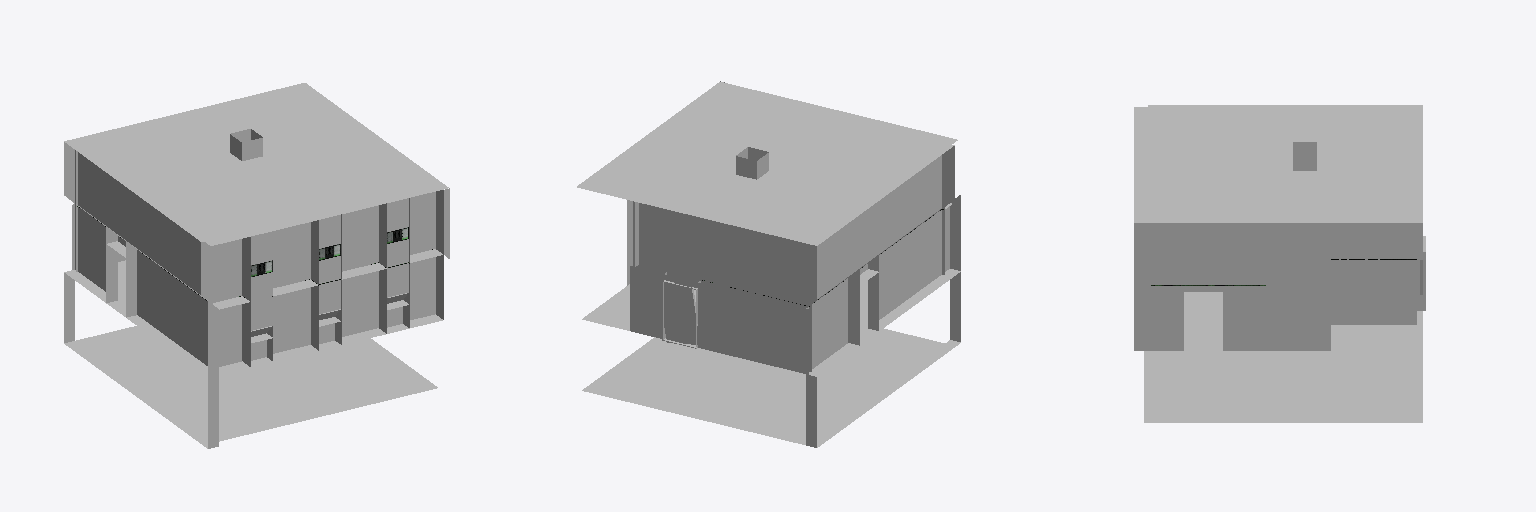
3 renders of one model, left to right at view 1: azimuth 30°, elevation 25°; view 2: azimuth 150°, elevation 25°; view 3: azimuth 270°, elevation 25°, orthographic.
Size of the model in its own units: 1360 by 1189 by 1424.
Materials: 9 (1 with a texture image).